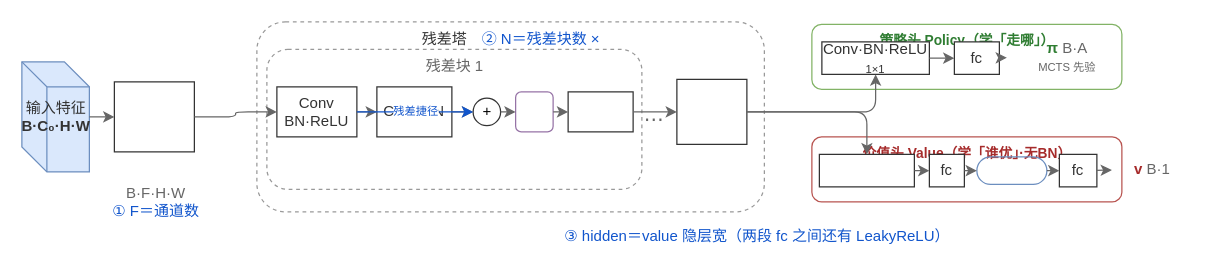
This 1214x269 diagram has some shape labels left out. Here are the shapes that lost their labels. From the top down, the centre of each, then its label:
At (153,116): "初始卷积 Conv·BN·ReLU".
At (533,111): "SE ④".
At (600,111): "ReLU".
At (711,111): "残差块 N".
At (866,170): "Conv·Leaky 1×1".
At (1011,170): "hidden ③".
